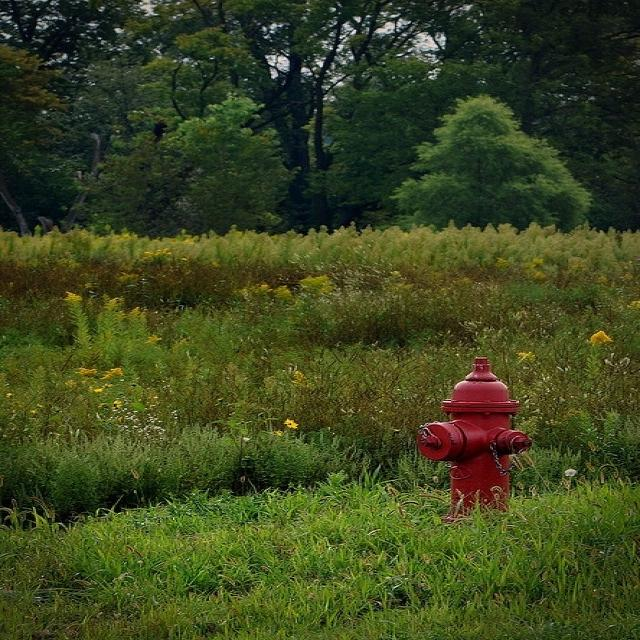fire_hydrant: (397, 339, 558, 520)
